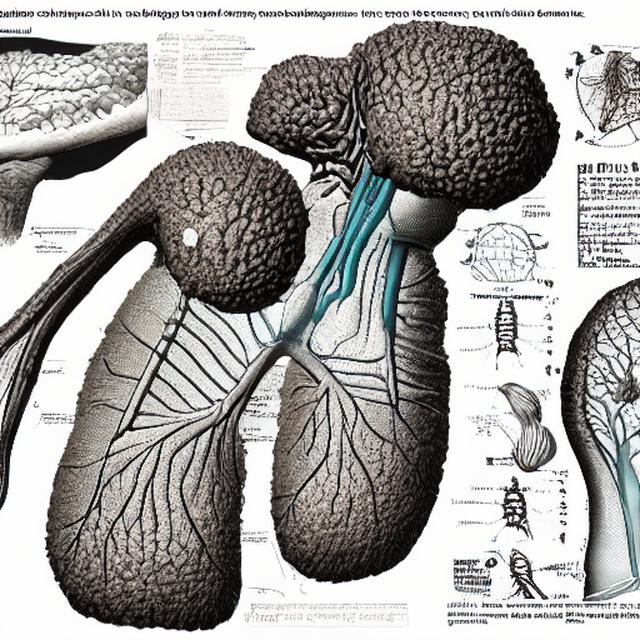Graph: (147, 80, 230, 130)
